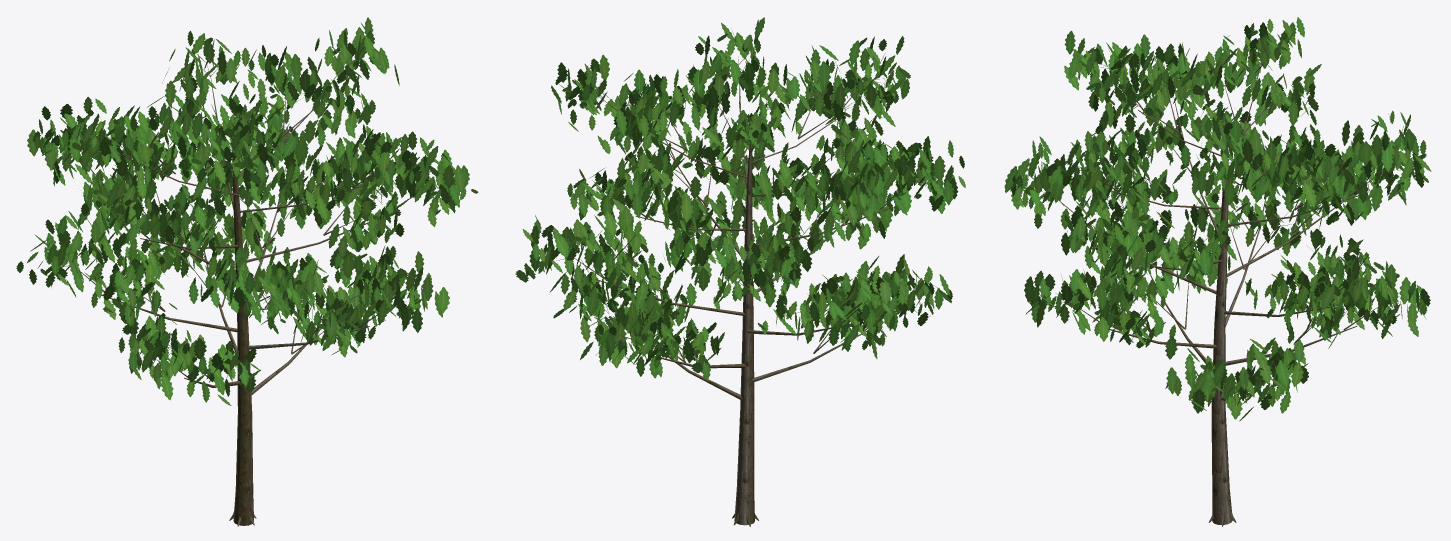
Rendered from oak-hero.gltf.
3 renders of one model, left to right at view 1: azimuth 30°, elevation 25°; view 2: azimuth 150°, elevation 25°; view 3: azimuth 270°, elevation 25°, orthographic.
Size of the model in its own units: 0.8473 by 1 by 0.8784.
2 materials, 2 textured.
